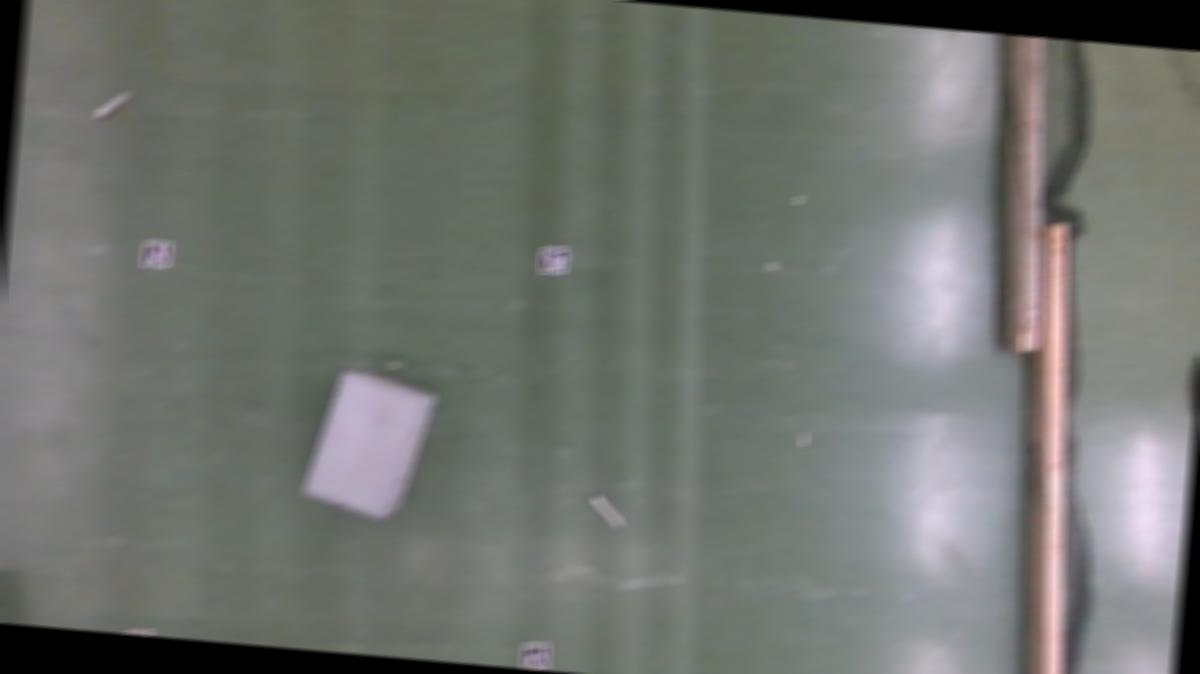probes: (590, 495, 626, 530), (95, 89, 130, 124)
rako: (300, 368, 439, 528)
